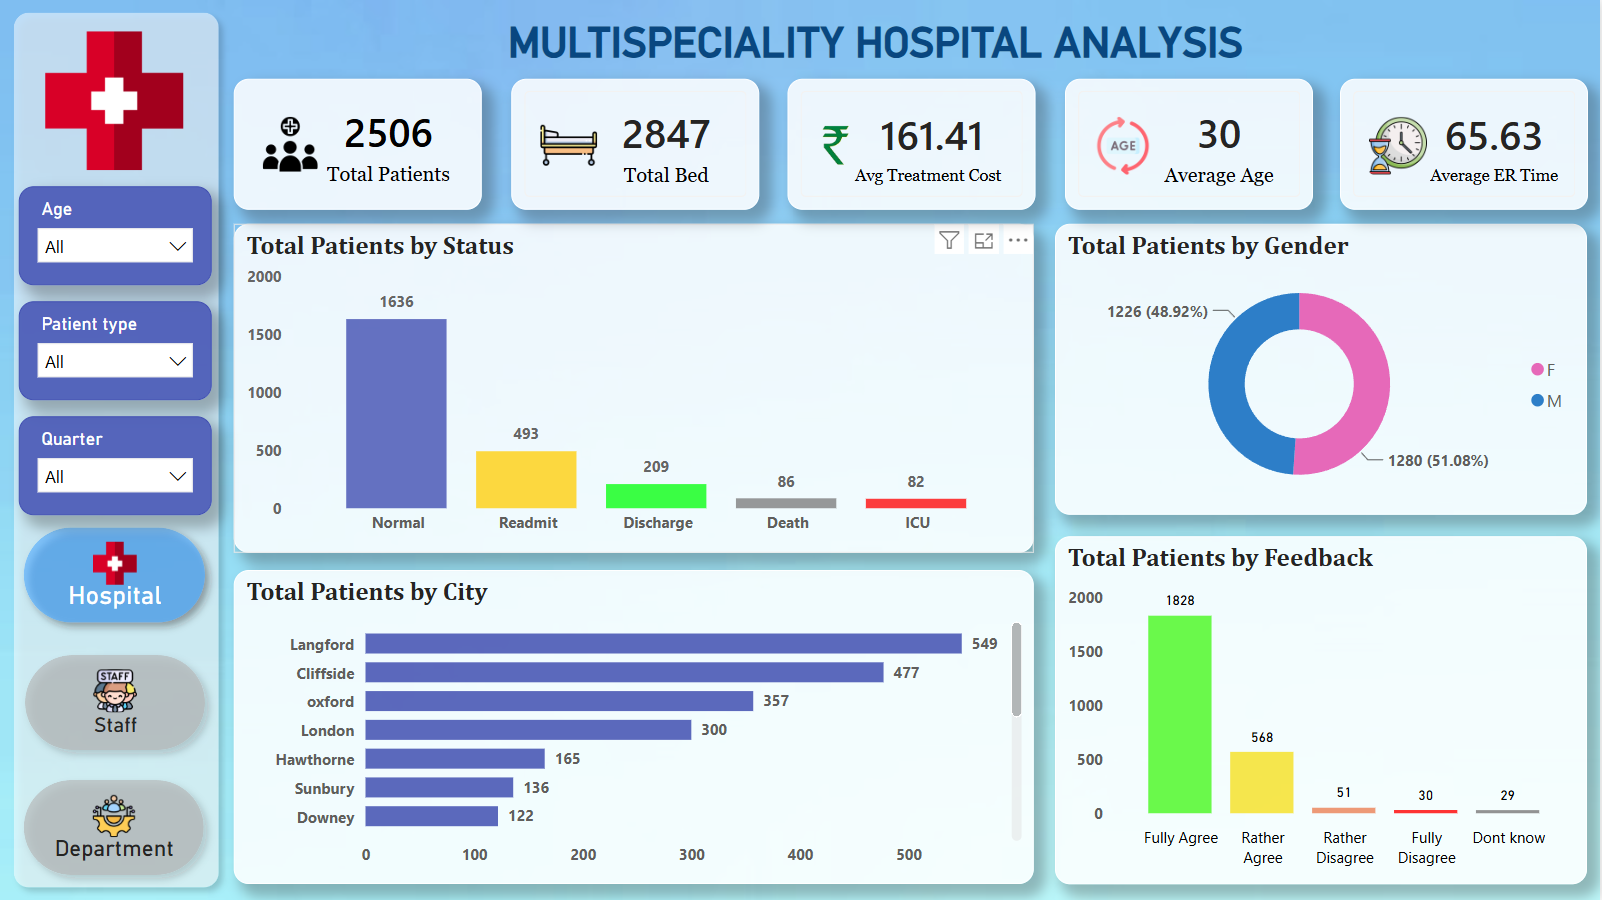

The page's visual inventory and layout, read from the dashboard file:
{"tool":"powerbi","page":{"name":"Home","canvas":[1280,720],"ordinal":0},"visuals":[{"type":"shape","box":[1.2,0,183.7,719.8],"z":0},{"type":"slicer","fields":{"Values":["Detail data dataset.Age"]},"box":[15.1,148.8,153.5,79.1],"z":1000},{"type":"slicer","fields":{"Values":["Detail data dataset.Patient type"]},"box":[15.1,240.7,153.5,79.1],"z":2000},{"type":"cardVisual","fields":{"Data":["Measure.Total Patient"]},"box":[187,63.5,197.7,104.7],"z":3000,"group":"g2"},{"type":"columnChart","fields":{"Category":["Detail data dataset.Status"],"Y":["Measure.Total Patients"]},"box":[187.2,179.1,639.5,262.8],"z":3000},{"type":"cardVisual","fields":{"Data":["Measure.Total Bed"]},"box":[409.1,63.5,197.7,104.7],"z":4000,"group":"g2"},{"type":"donutChart","fields":{"Category":["Detail data dataset.Gender"],"Y":["Measure.Total Patients"]},"box":[844.2,179.1,424.4,232.6],"z":4000},{"type":"cardVisual","fields":{"Data":["Measure.Average Age"]},"box":[852.1,63.5,197.7,104.7],"z":5000,"group":"g2"},{"type":"barChart","fields":{"Category":["Detail data dataset.City"],"Y":["Measure.Total Patients"]},"box":[187.2,455.8,639.5,251.2],"z":5000},{"type":"cardVisual","fields":{"Data":["Measure.Average ER Time"]},"box":[1071.9,63.5,197.7,104.7],"z":6000,"group":"g2"},{"type":"columnChart","fields":{"Y":["Measure.Total Patients"],"Category":["Detail data dataset.Feedback"]},"box":[844.2,429.1,424.4,277.9],"z":6000},{"type":"image","box":[33.4,25,115.5,111.3],"z":7000},{"type":"cardVisual","fields":{"Data":["Measure.Average Treatment Cost"]},"box":[630,63.5,197.7,104.7],"z":7000,"group":"g2"},{"type":"textbox","box":[351.2,0,697.7,68.6],"z":8000},{"type":"group","id":"g1","title":"Group 1","box":[8.3,410.5,167.4,300],"z":9000},{"type":"group","id":"g2","title":"Group 2","box":[187,63.5,1082.6,104.7],"z":10000},{"type":"slicer","fields":{"Values":["Dim_date.Quarter","Dim_date.Month"]},"box":[15.1,332.6,153.5,79.1],"z":10001},{"type":"actionButton","box":[9.5,512.8,166.3,97.7],"z":14000,"group":"g1"},{"type":"actionButton","box":[8.3,612.8,166.3,97.7],"z":15000,"group":"g1"},{"type":"actionButton","box":[8.3,410.5,167.4,97.7],"z":18000,"group":"g1"}]}

Visuals, with their boxes in screenshot pixels (x1, y1, x2, y2), scaled from the page's 1280x720 canvas onto the 1602x900 screenshot:
shape: rect(2, 0, 231, 899)
slicer - Detail data dataset.Age: rect(19, 186, 211, 285)
slicer - Detail data dataset.Patient type: rect(19, 301, 211, 400)
cardVisual - Measure.Total Patient: rect(234, 79, 481, 210)
columnChart - Detail data dataset.Status x Measure.Total Patients: rect(234, 224, 1035, 552)
cardVisual - Measure.Total Bed: rect(512, 79, 759, 210)
donutChart - Detail data dataset.Gender x Measure.Total Patients: rect(1057, 224, 1588, 515)
cardVisual - Measure.Average Age: rect(1066, 79, 1314, 210)
barChart - Detail data dataset.City x Measure.Total Patients: rect(234, 570, 1035, 884)
cardVisual - Measure.Average ER Time: rect(1342, 79, 1589, 210)
columnChart - Measure.Total Patients x Detail data dataset.Feedback: rect(1057, 536, 1588, 884)
image: rect(42, 31, 186, 170)
cardVisual - Measure.Average Treatment Cost: rect(788, 79, 1036, 210)
textbox: rect(440, 0, 1313, 86)
"Group 1" group: rect(10, 513, 220, 888)
"Group 2" group: rect(234, 79, 1589, 210)
slicer - Dim_date.Quarter x Dim_date.Month: rect(19, 416, 211, 515)
actionButton: rect(12, 641, 220, 763)
actionButton: rect(10, 766, 219, 888)
actionButton: rect(10, 513, 220, 635)
